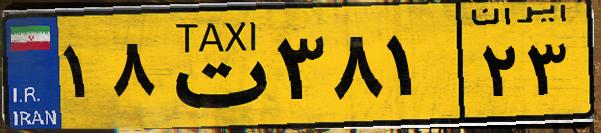1: (385, 28, 445, 110), (57, 26, 110, 100)
2: (475, 38, 525, 113)
3: (270, 28, 330, 110), (525, 38, 570, 115)
8: (330, 28, 385, 110), (110, 28, 158, 98)
ت: (158, 12, 270, 120)
